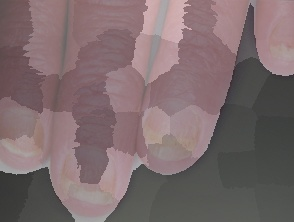Nail_psoriasis: (132, 92, 210, 172), (55, 136, 123, 208), (0, 101, 49, 162), (267, 13, 294, 65)
